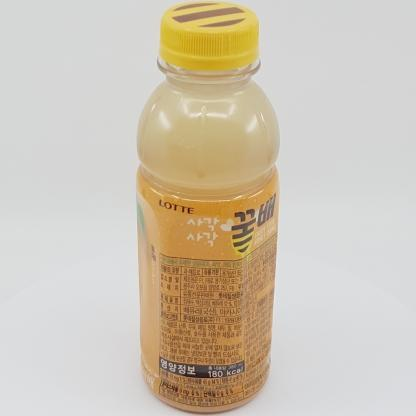--------380ML: (135, 1, 280, 413)
